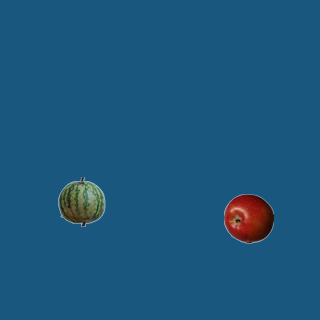Apple Braeburn: (223, 193, 273, 243)
Watermelon: (56, 176, 106, 226)
